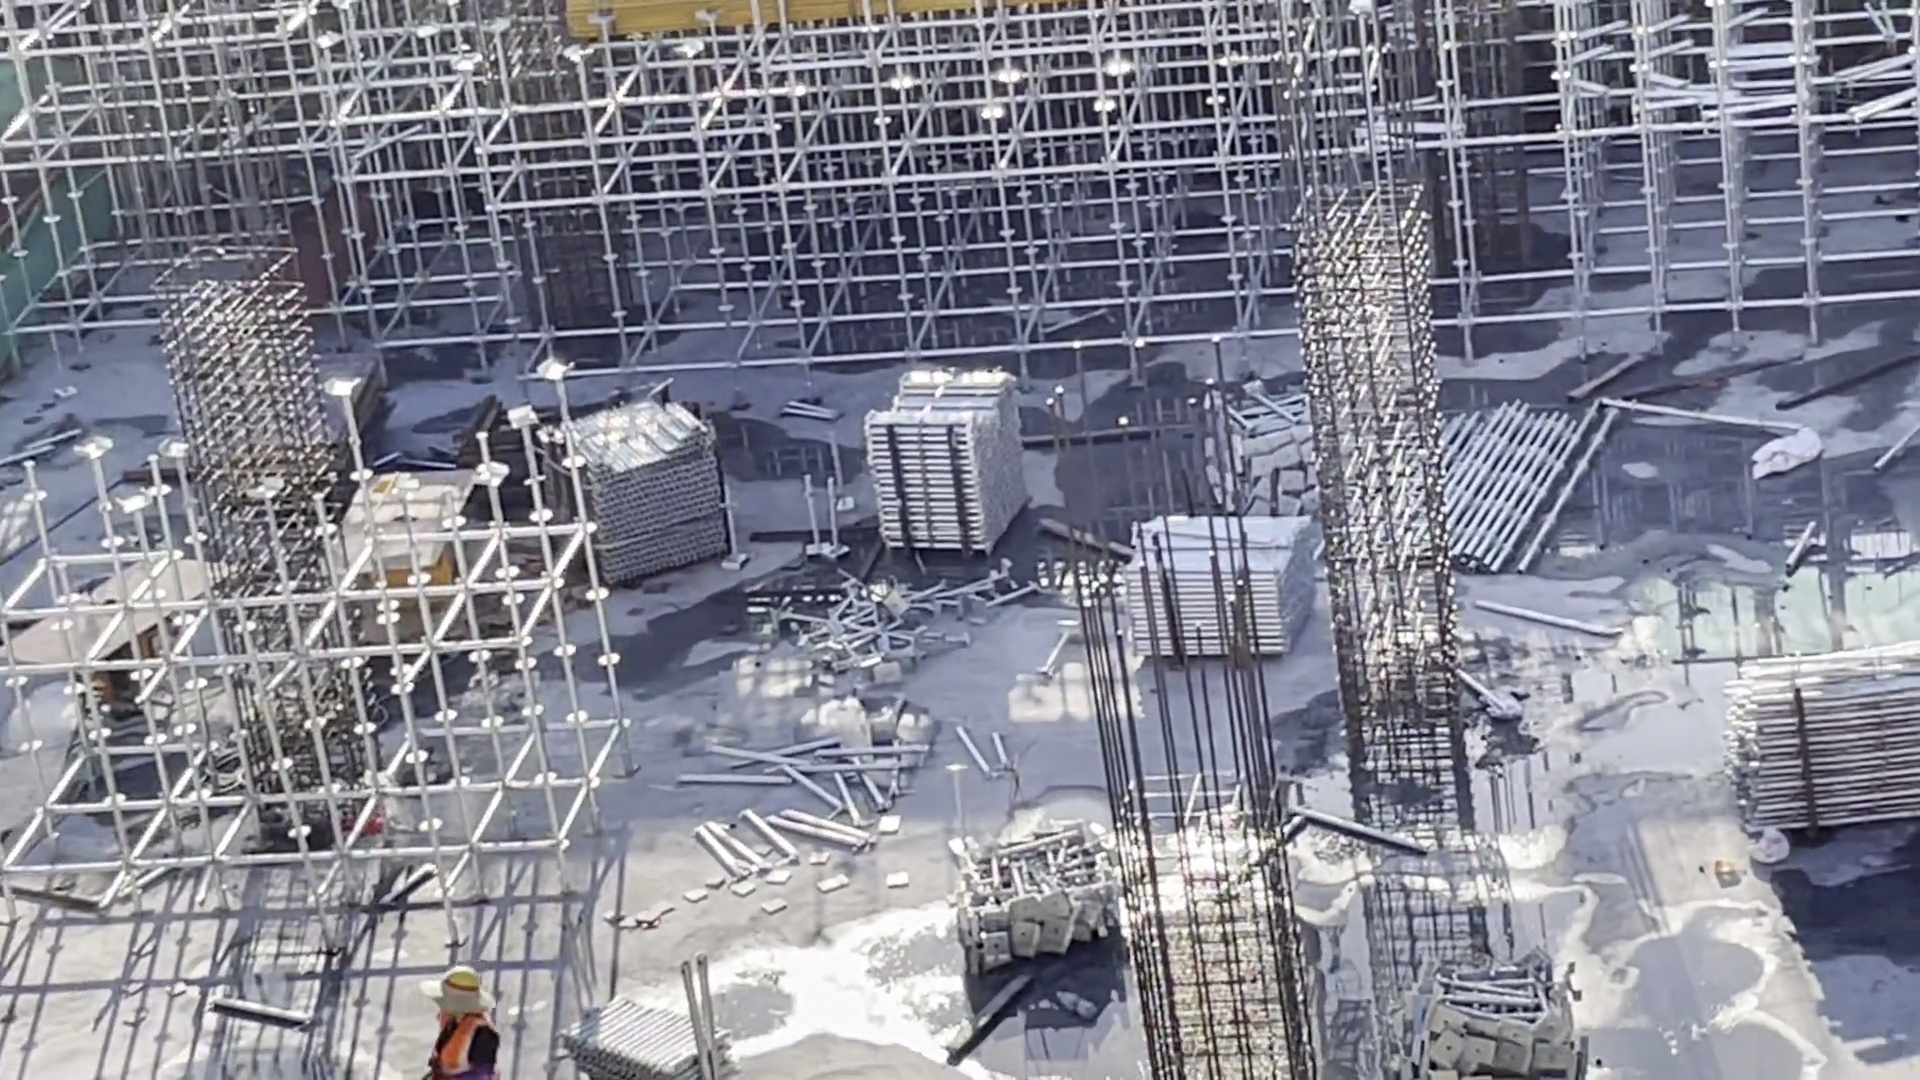helmet: (421, 966, 491, 1006)
person: (407, 956, 513, 1080)
scaffold: (534, 390, 743, 587), (1728, 637, 1920, 834), (1431, 393, 1616, 589), (1114, 503, 1326, 664), (855, 363, 1032, 555)
vest: (418, 1011, 489, 1064)
